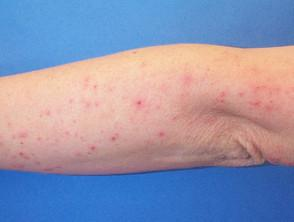Eczema: (1, 121, 62, 168), (61, 75, 119, 112), (236, 80, 290, 113), (152, 126, 176, 143), (103, 132, 124, 147), (132, 94, 149, 112), (216, 88, 232, 107)
